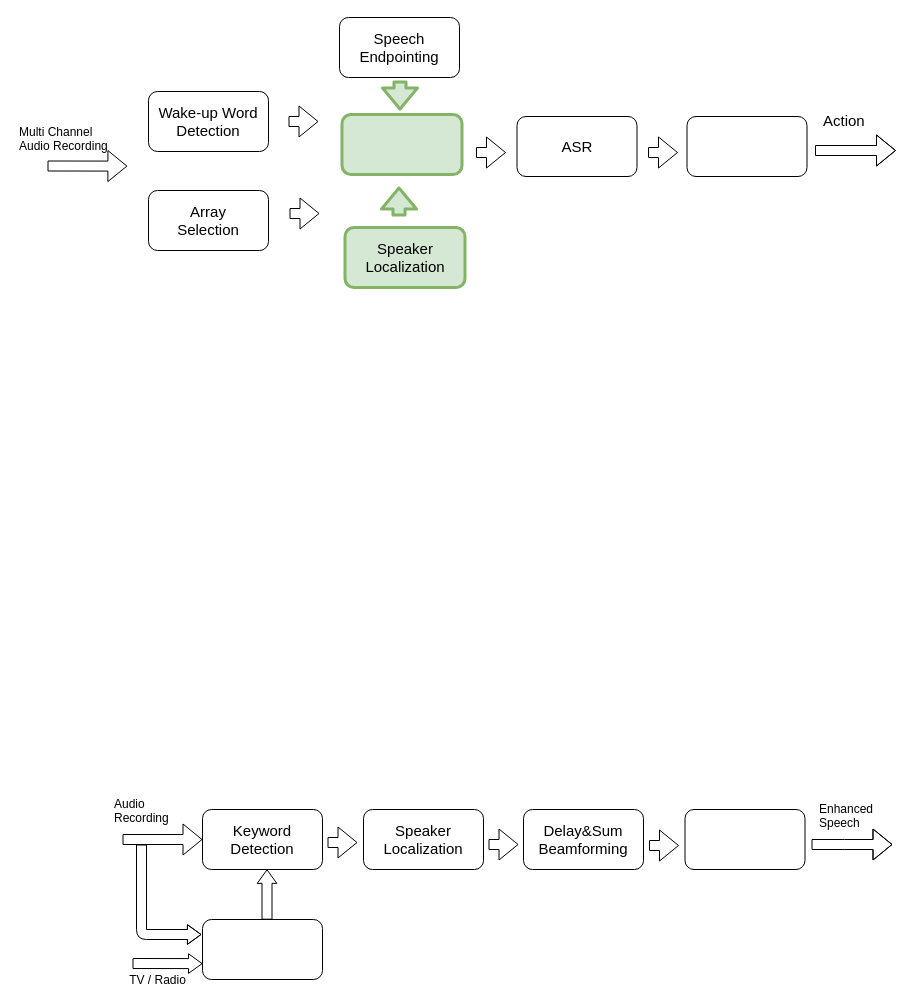
Some shapes in this 913 by 1008 pixel diagram are drawn without their labels. The shapes that lost their labels are listed below. From the top down, each one's centre as x and y in pixels, then its label:
At pixel 401 144: "Speech Enhancement".
At pixel 746 146: "NLU".
At pixel 744 839: "GEV Beamforming".
At pixel 262 949: "Echo Cancellation".
